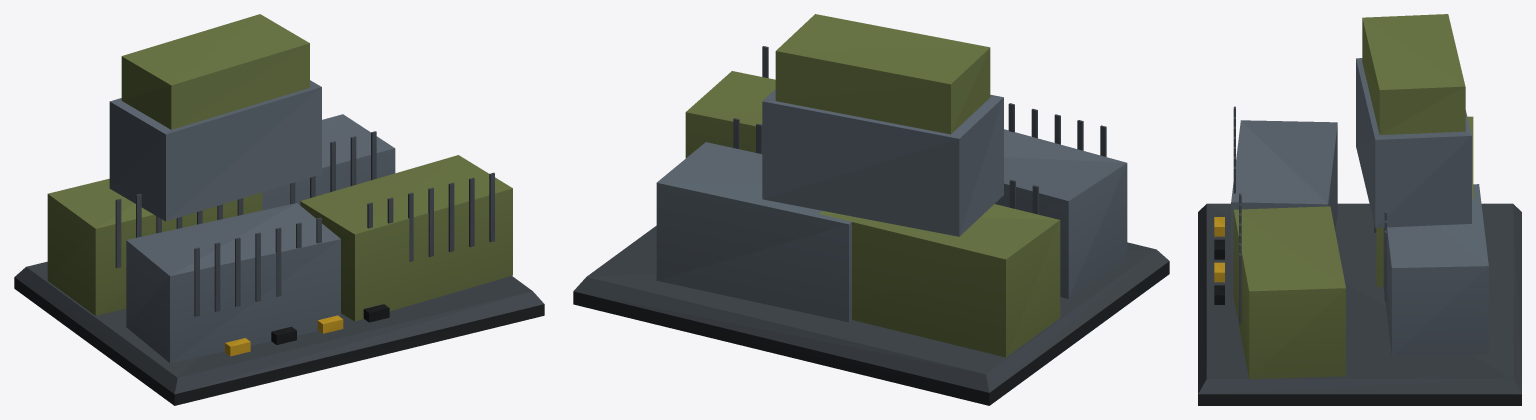
Rendered from outpost-containers.glb.
3 views of the same model, side by side, from view 1: azimuth 30°, elevation 25°; view 2: azimuth 150°, elevation 25°; view 3: azimuth 270°, elevation 25° (orthographic). The views are drawn at different scales.
Size of the model in its own units: 4 by 2.5 by 3.
